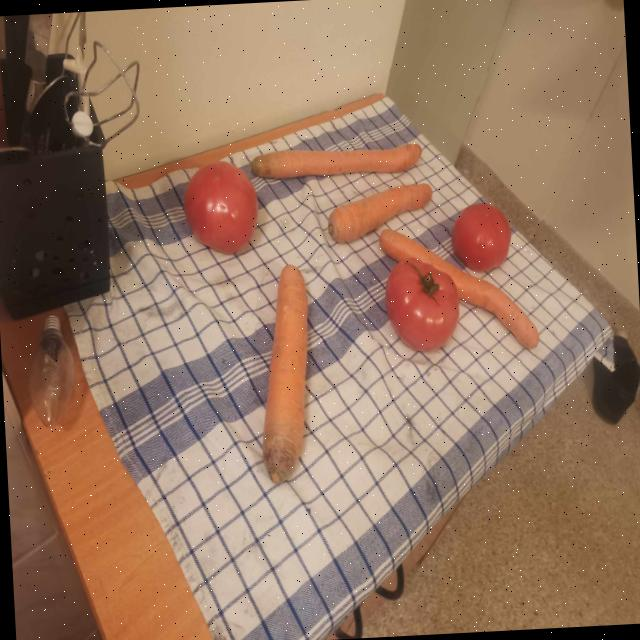carrot: (380, 229, 539, 349), (263, 265, 308, 483), (252, 143, 421, 179), (328, 184, 432, 242)
tomato: (385, 258, 459, 351), (184, 161, 258, 253), (452, 203, 511, 272)
